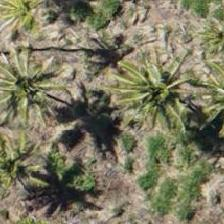coconut_tree: (95, 48, 185, 138), (0, 41, 76, 131), (0, 108, 46, 198), (0, 0, 72, 51)
